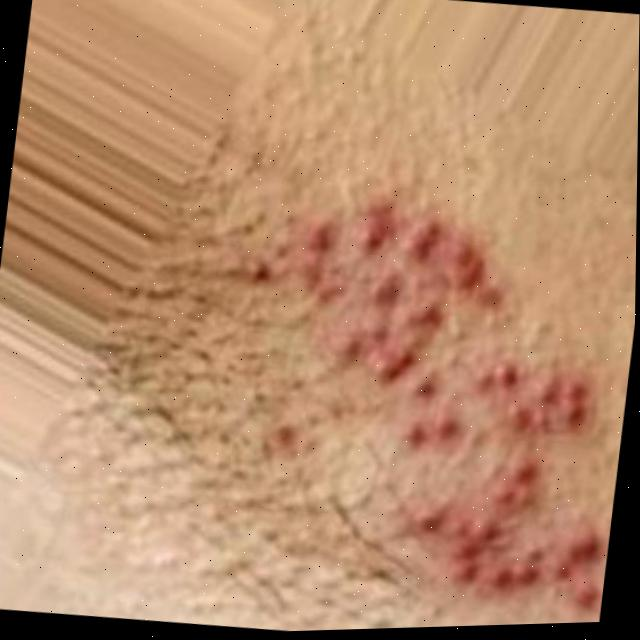Shingles: (254, 184, 637, 617)
